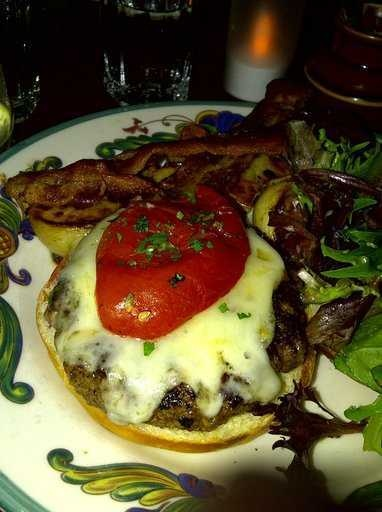hamburger: (25, 189, 324, 448)
